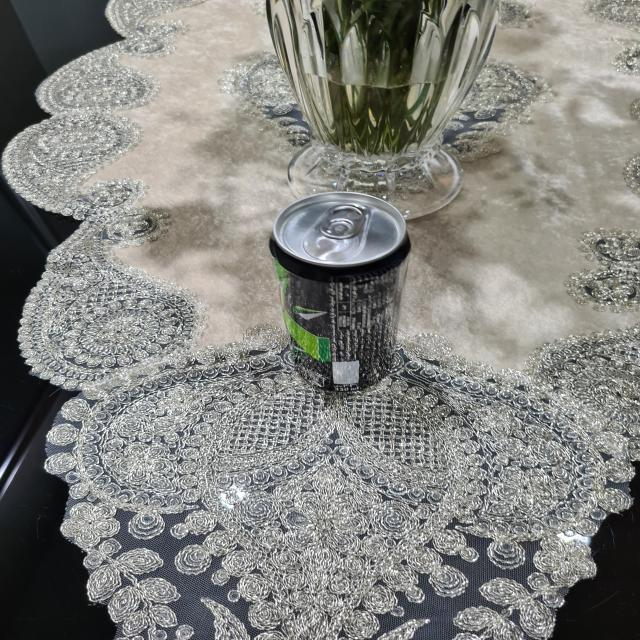non-organic waste: (268, 190, 417, 404)
